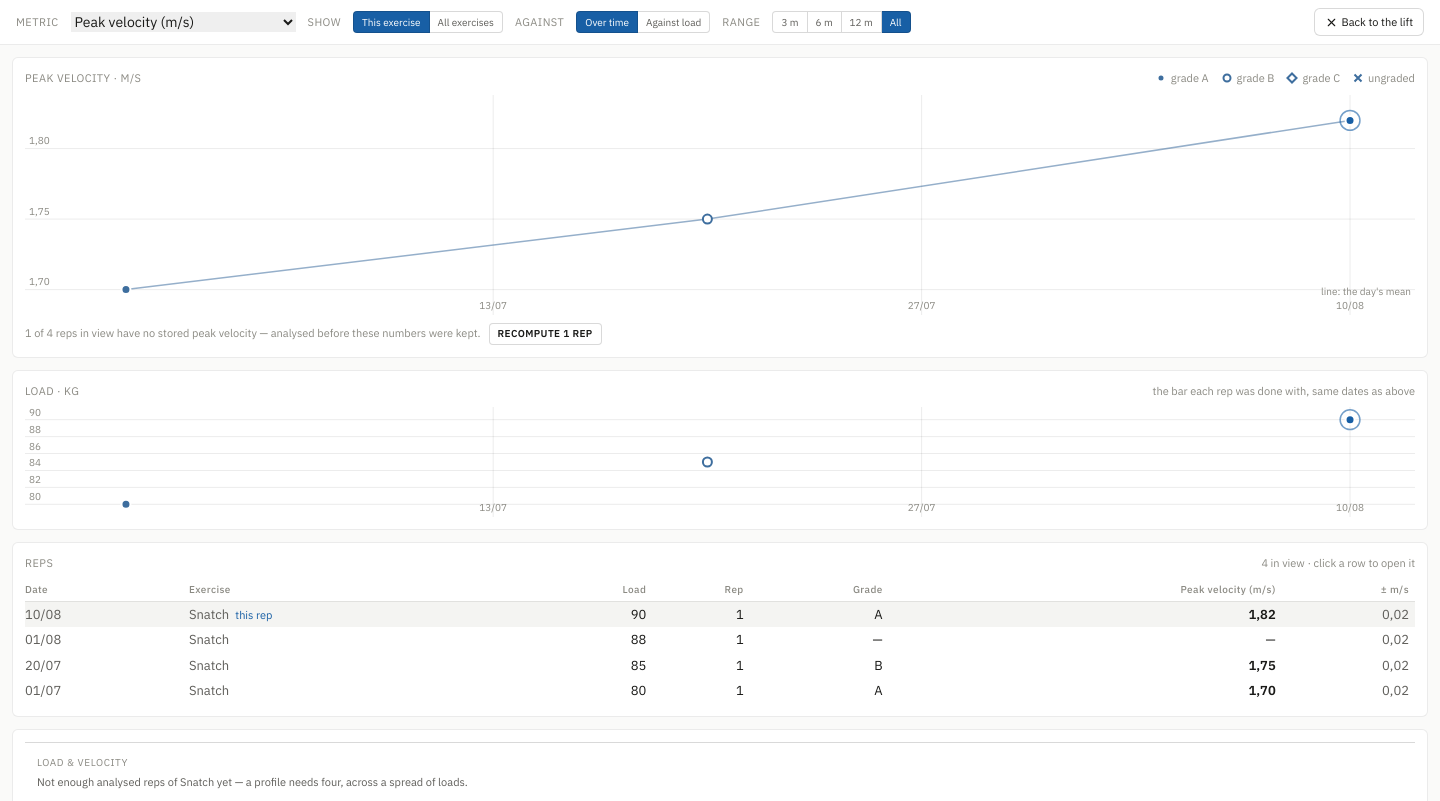
Scenario: TrendsView › widens to every exercise on request, and says the clean is a clean
Expected: the text "PEAK VELOCITY · M/S" is shown, [25,70,141,86]
Step 1. Click the button "All exercises" → click(466, 22), box [430,11,503,33]
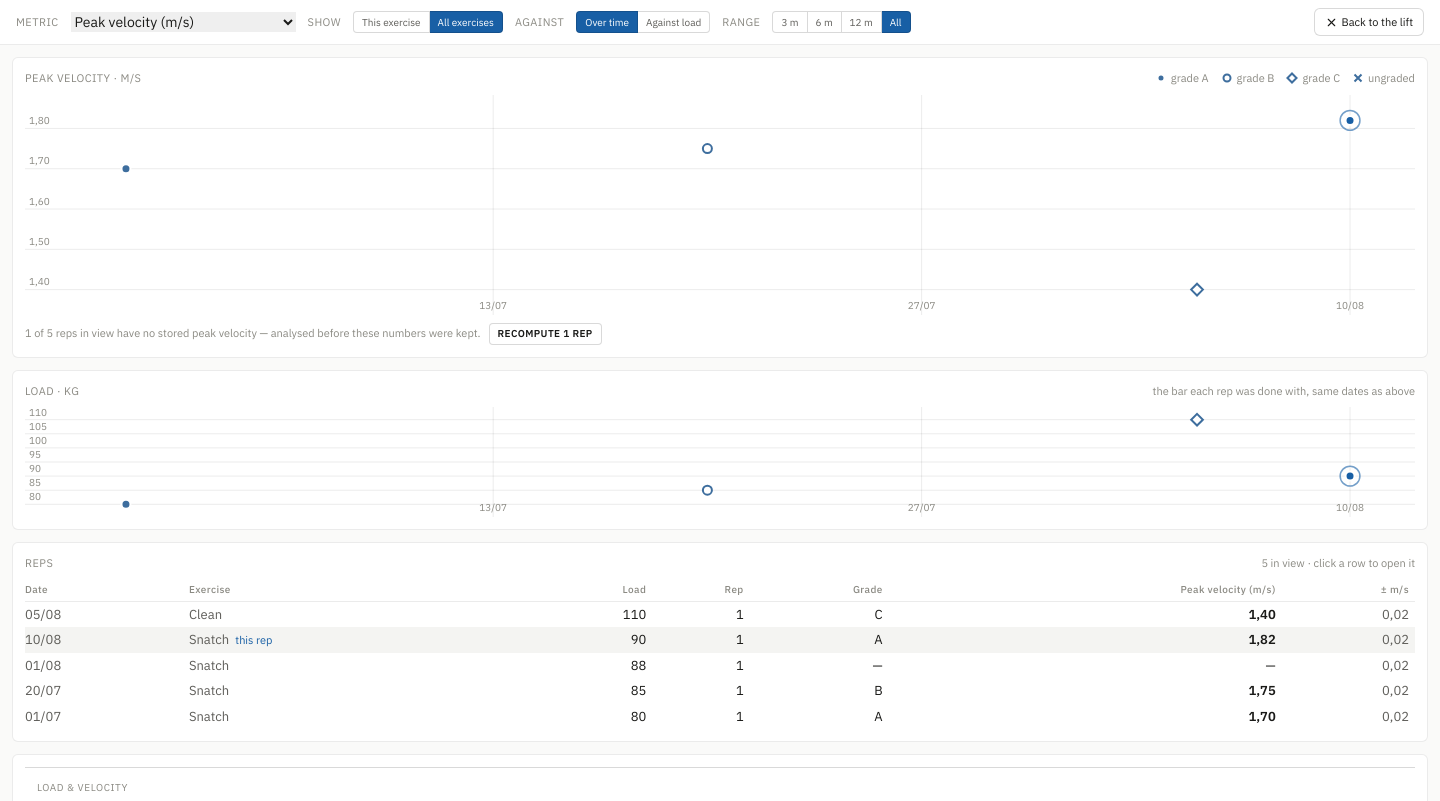
Now the text "5 in view · click a row to open it" is shown, box [1261,555,1415,572]
Now the text "Clean" is shown, box [189,601,537,627]
